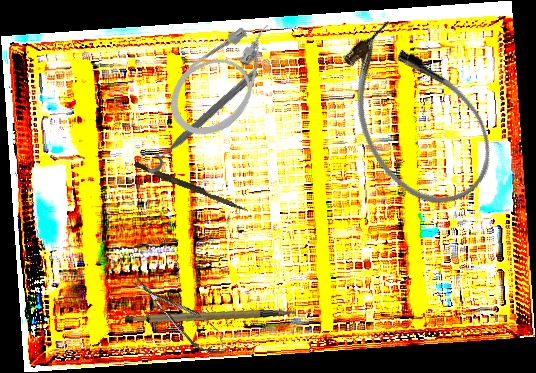Cannula: (315, 6, 514, 227), (155, 7, 300, 151)
Fixation Ring: (136, 59, 263, 177)
Micro Scissor: (126, 266, 233, 364)
Pusher: (132, 161, 251, 213)
Scalpel Handle: (124, 292, 297, 344)
